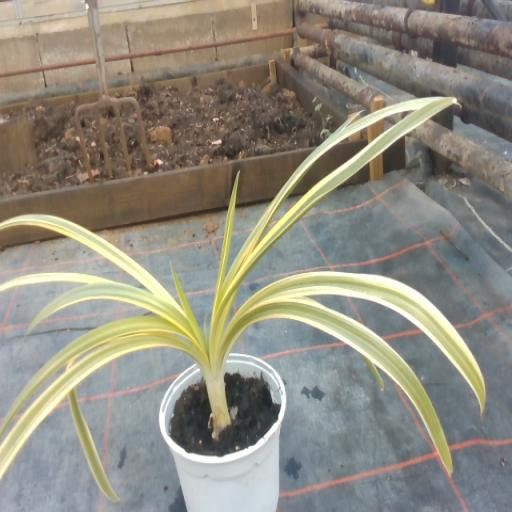Agapanthus-praecox: (216, 99, 454, 329), (220, 99, 437, 297), (222, 299, 452, 471), (226, 271, 484, 413), (0, 331, 208, 476), (0, 316, 183, 434), (0, 214, 184, 317), (28, 282, 189, 334), (68, 389, 119, 500), (212, 172, 238, 321), (171, 262, 203, 340), (0, 273, 113, 291), (337, 111, 362, 130), (66, 356, 76, 369)
